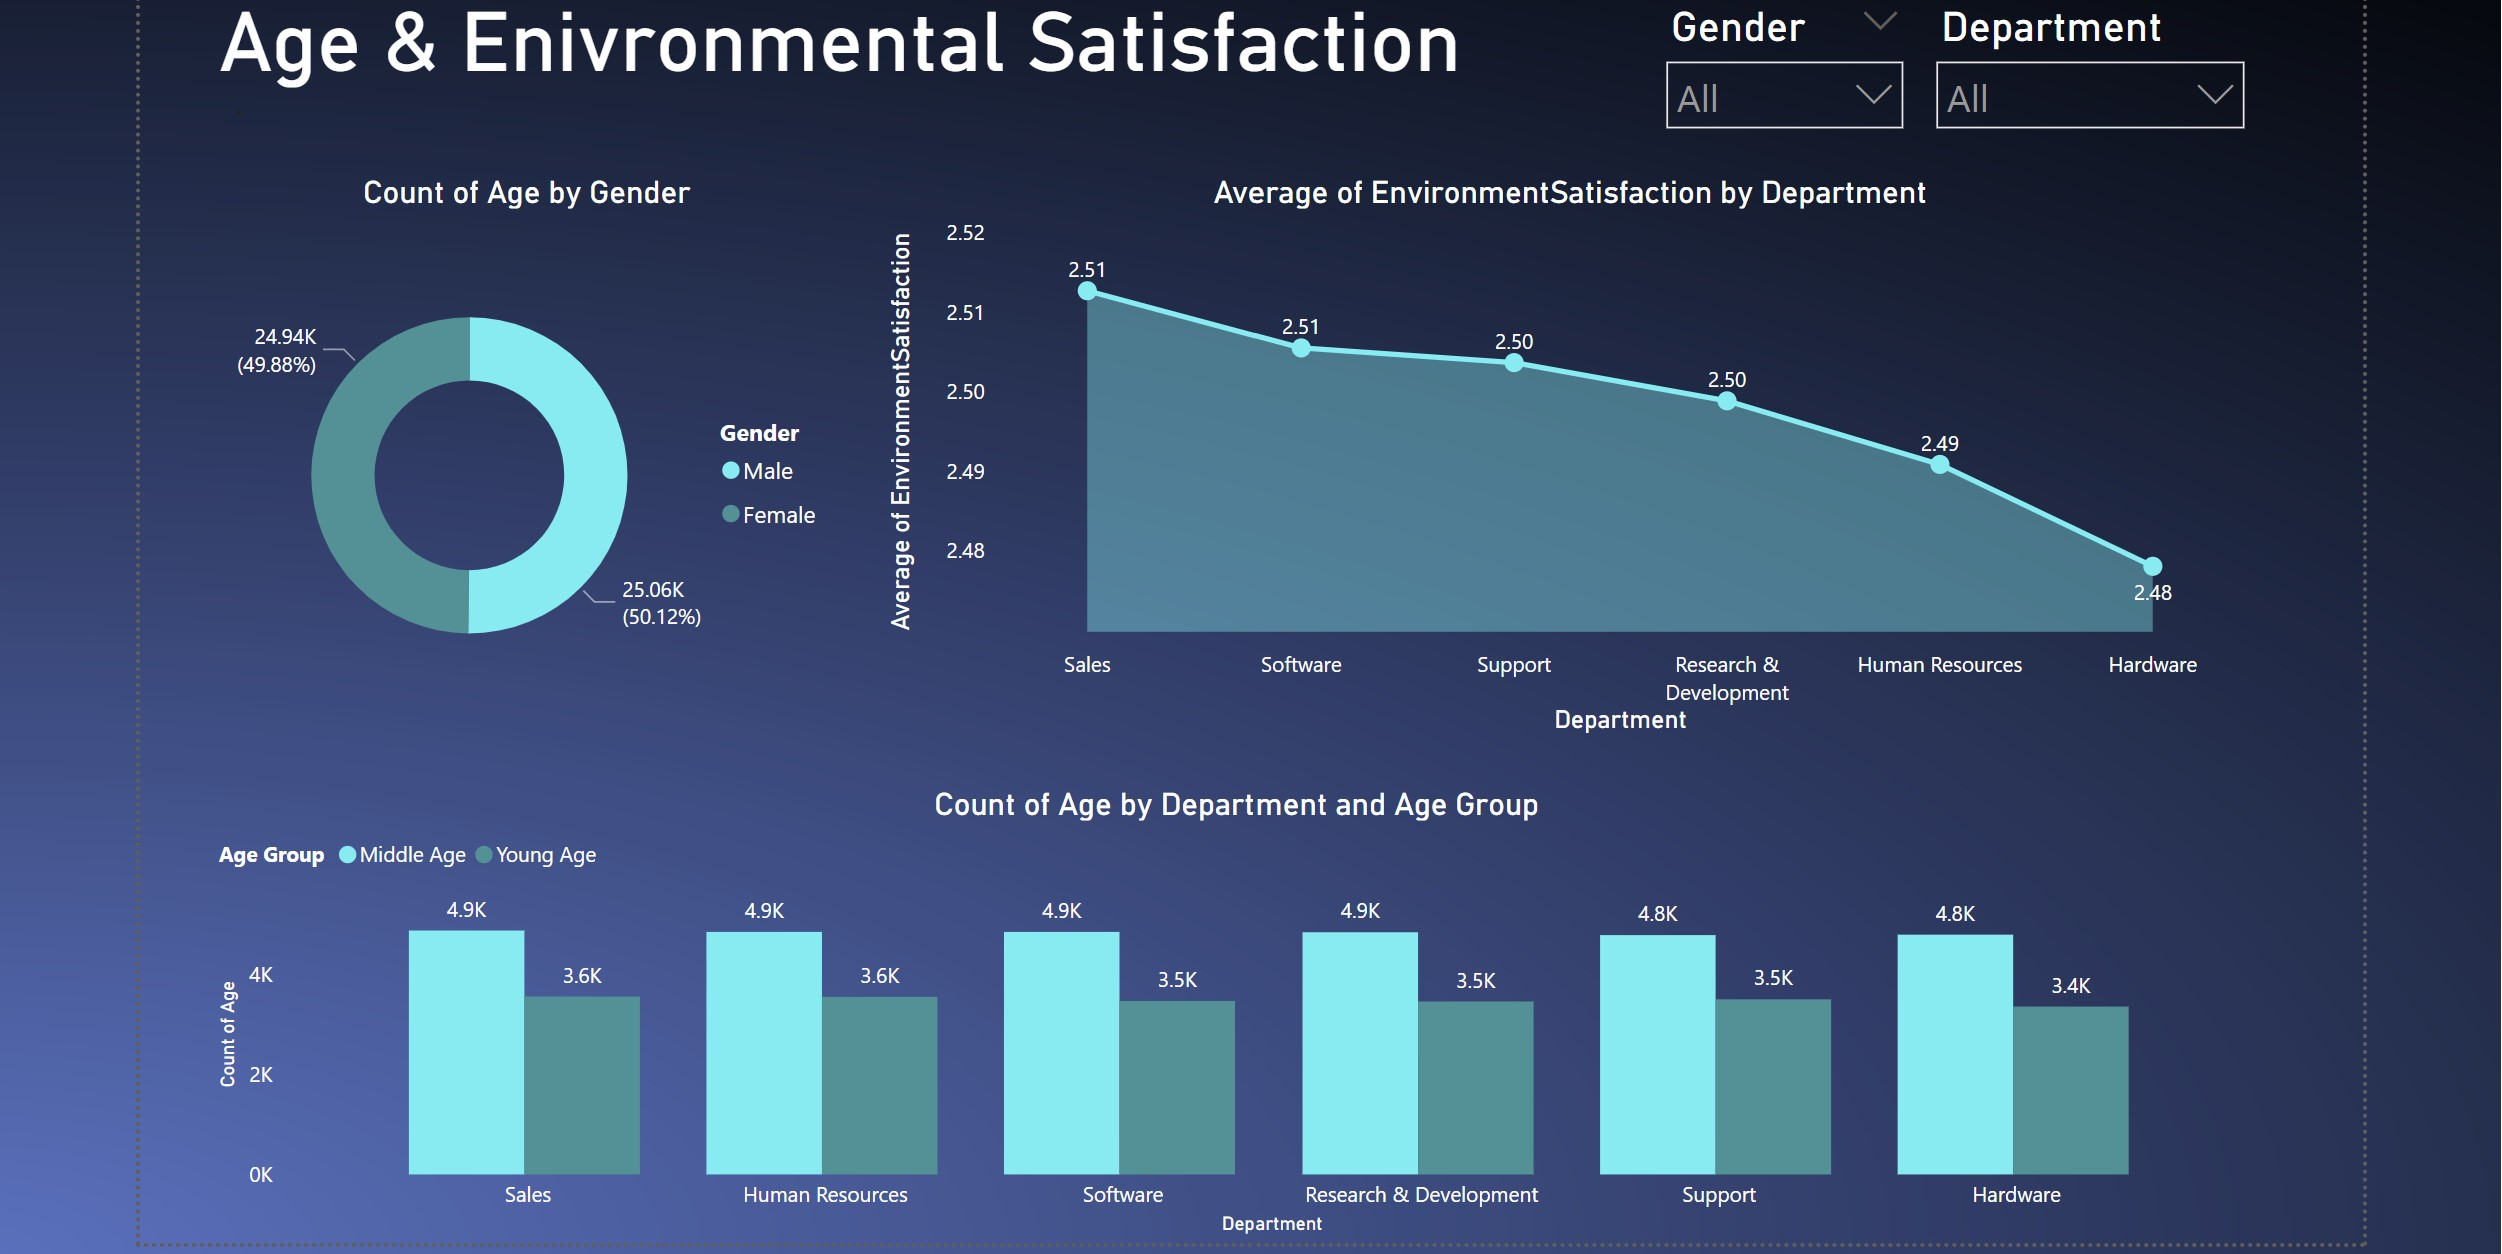

The page's visual inventory and layout, read from the dashboard file:
{"tool":"powerbi","page":{"name":"Age & Environmental Satisfaction","canvas":[1280,720],"ordinal":2},"visuals":[{"type":"areaChart","fields":{"Category":["Hr_1.Department"],"Y":["Avg(Hr_1.EnvironmentSatisfaction)"]},"box":[425.1,104.2,796.8,327.8],"z":0},{"type":"clusteredColumnChart","fields":{"Category":["Hr_1.Department"],"Series":["Hr_1.Age Group"],"Y":["CountNonNull(Hr_1.Age)"]},"box":[39.8,456.7,1182.2,263.3],"z":1000},{"type":"donutChart","fields":{"Y":["CountNonNull(Hr_1.Age)"],"Category":["Hr_1.Gender"]},"box":[39.8,104.2,364.8,327.8],"z":2000},{"type":"textbox","title":"Age & Enivronmental Satisfaction","box":[39.8,0,746.1,83.7],"z":3000},{"type":"slicer","fields":{"Values":["Hr_1.Gender"]},"box":[868.1,0,156.3,83.7],"z":4000},{"type":"slicer","fields":{"Values":["Hr_1.Department"]},"box":[1024.5,0,197.5,83.7],"z":5000}]}

Visuals, with their boxes on the page's 1280x720 design canvas (x1, y1, x2, y2). These are canvas units, not pixel positions in the 2502x1254 screenshot, which may show the page scaled, cropped or inside an application window:
areaChart - Hr_1.Department x Avg(Hr_1.EnvironmentSatisfaction): <region>425, 104, 1222, 432</region>
clusteredColumnChart - Hr_1.Department x Hr_1.Age Group: <region>40, 457, 1222, 720</region>
donutChart - CountNonNull(Hr_1.Age) x Hr_1.Gender: <region>40, 104, 405, 432</region>
"Age & Enivronmental Satisfaction" textbox: <region>40, 0, 786, 84</region>
slicer - Hr_1.Gender: <region>868, 0, 1024, 84</region>
slicer - Hr_1.Department: <region>1024, 0, 1222, 84</region>
